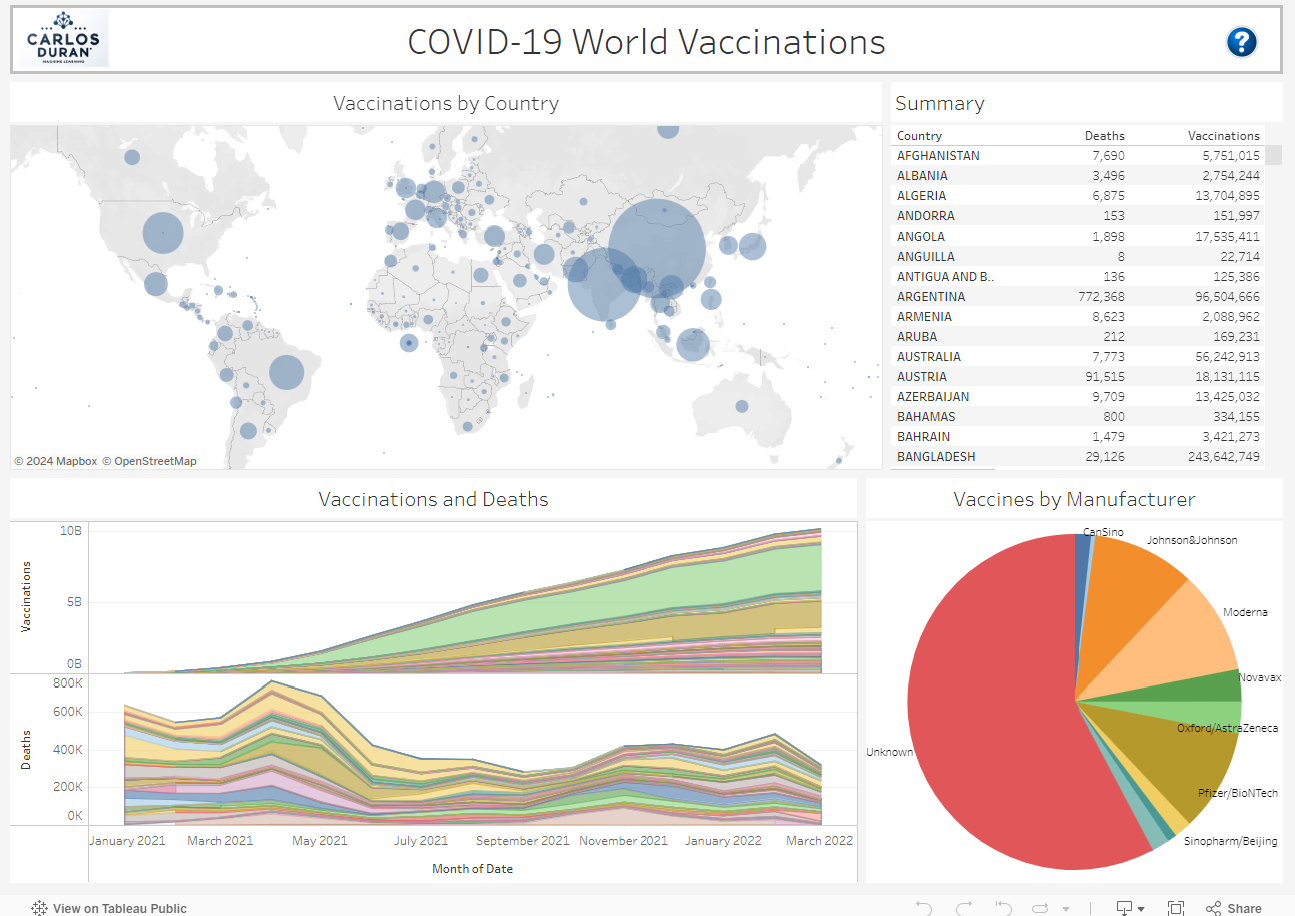

This screenshot's page, from the dashboard's own definition file:
{"tool":"tableau","page":{"name":"COVID-19 World Vaccinations","canvas":[1300,900],"ordinal":0},"visuals":[{"type":"title","box":[8,8,1284,77]},{"type":"worksheet","title":"Icon","mark":"Shape","rows":["Calculation_480477828278341633"],"box":[1210,15,73,68]},{"type":"worksheet","title":"Vaccinations by Country","mark":"Automatic","box":[8,85,883,395]},{"type":"worksheet","title":"Summary","mark":"Automatic","rows":["country"],"box":[891,85,401,395]},{"type":"worksheet","title":"Vaccinations and Deaths","mark":"Area","rows":["Calculation_688769311310077952","Calculation_688769311310450689"],"cols":["date"],"box":[8,480,858,412]},{"type":"worksheet","title":"Vaccines by Manufacturer","mark":"Pie","box":[866,480,426,412]}]}

Visuals, with their boxes on the page's 1300x900 design canvas (x1, y1, x2, y2). These are canvas units, not pixel positions in the 1295x916 screenshot, which may show the page scaled, cropped or inside an application window:
title: {"left": 8, "top": 8, "right": 1292, "bottom": 85}
"Icon" worksheet (Shape marks): {"left": 1210, "top": 15, "right": 1283, "bottom": 83}
"Vaccinations by Country" worksheet: {"left": 8, "top": 85, "right": 891, "bottom": 480}
"Summary" worksheet: {"left": 891, "top": 85, "right": 1292, "bottom": 480}
"Vaccinations and Deaths" worksheet (Area marks): {"left": 8, "top": 480, "right": 866, "bottom": 892}
"Vaccines by Manufacturer" worksheet (Pie marks): {"left": 866, "top": 480, "right": 1292, "bottom": 892}
